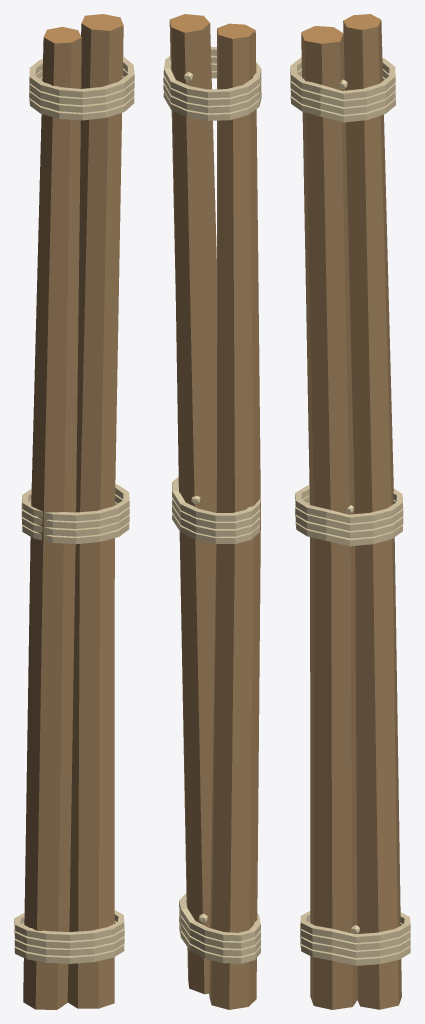
Rendered from architecture.support.wood.fbx.
3 views of the same model, side by side, from view 1: azimuth 90°, elevation 25°; view 2: azimuth 210°, elevation 25°; view 3: azimuth 270°, elevation 25° (orthographic).
Parts seen in each view (by area): view 1: SUP_stick_b, SUP_stick_a, SUP_rope; view 2: SUP_stick_b, SUP_stick_a, SUP_rope; view 3: SUP_stick_a, SUP_stick_b, SUP_rope.
Boxes of the visible parts, left/top/right/bottom form: SUP_stick_b: left=23, top=26, right=81, bottom=1009; SUP_stick_a: left=67, top=14, right=123, bottom=1008; SUP_rope: left=14, top=56, right=134, bottom=963; SUP_stick_b: left=209, top=23, right=260, bottom=1009; SUP_stick_a: left=169, top=14, right=216, bottom=994; SUP_rope: left=163, top=47, right=261, bottom=963; SUP_stick_a: left=301, top=26, right=357, bottom=1009; SUP_stick_b: left=343, top=14, right=401, bottom=1009; SUP_rope: left=290, top=57, right=410, bottom=965.
Size of the model in its own units: 0.21 by 2.3 by 0.2583.
